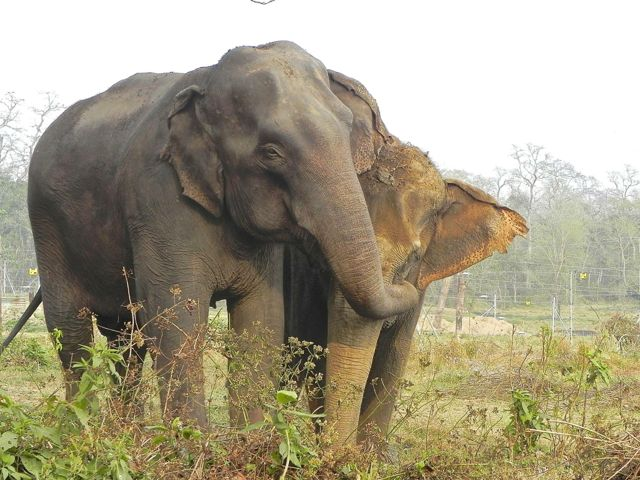elephant: (1, 37, 422, 465), (278, 96, 529, 458)
